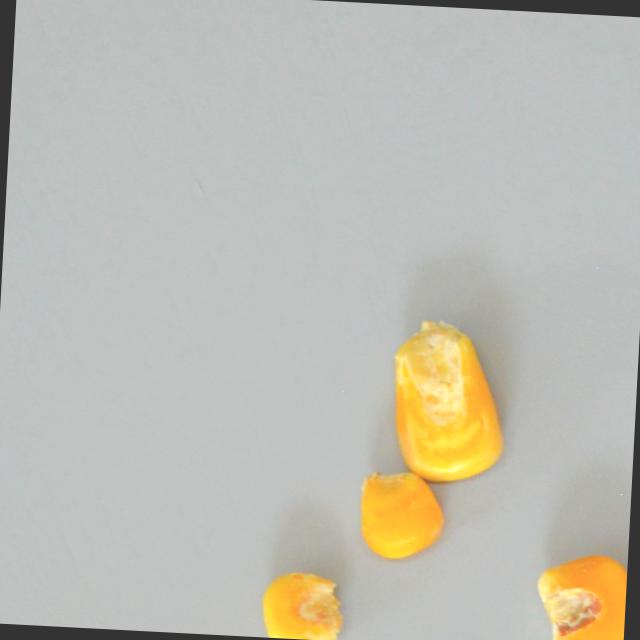dañado: (531, 546, 628, 640), (258, 566, 349, 640)
entero: (384, 312, 513, 486)
no_desgerminado: (354, 462, 448, 564)
